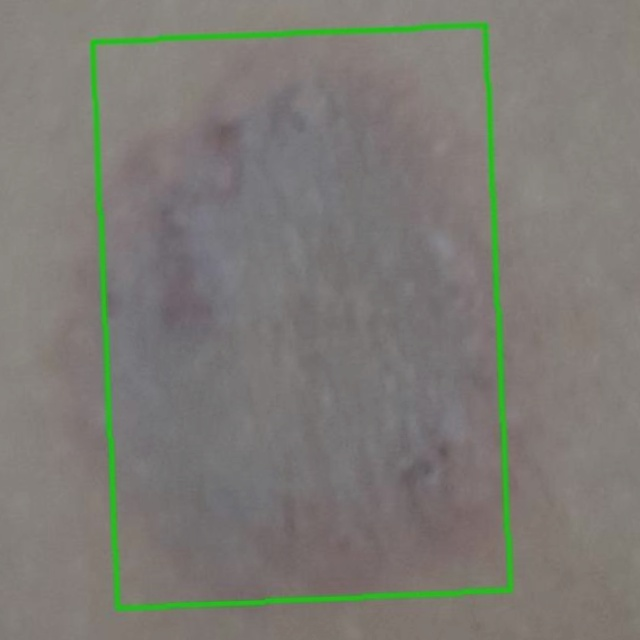Eczema: (93, 25, 511, 608)
